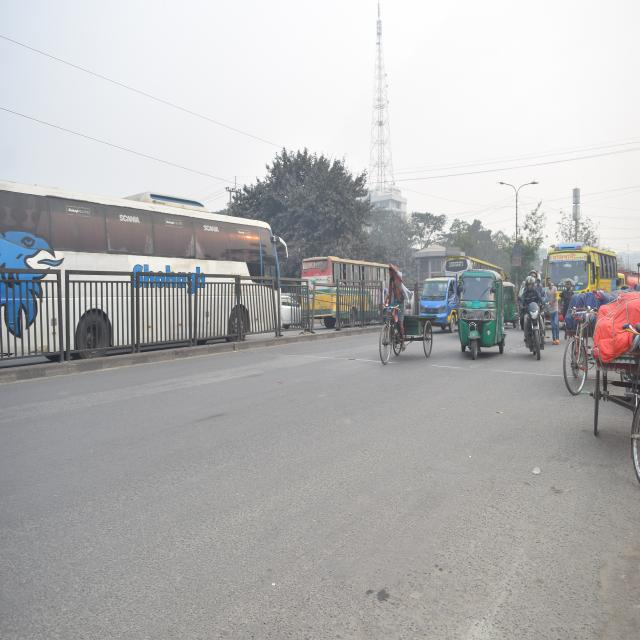bus: (2, 177, 287, 358), (300, 250, 404, 332), (546, 242, 628, 333)
microbus: (419, 268, 466, 332)
motorbike: (514, 275, 554, 371)
